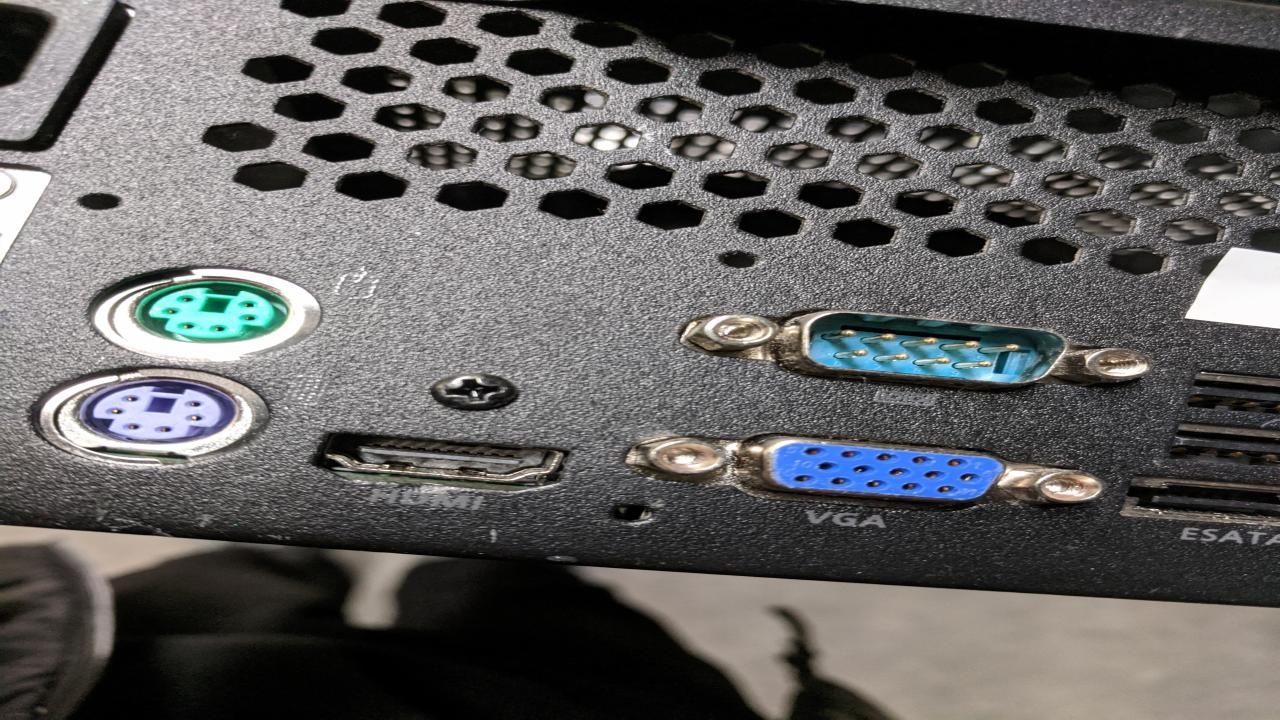CRS: (429, 373, 521, 409)
